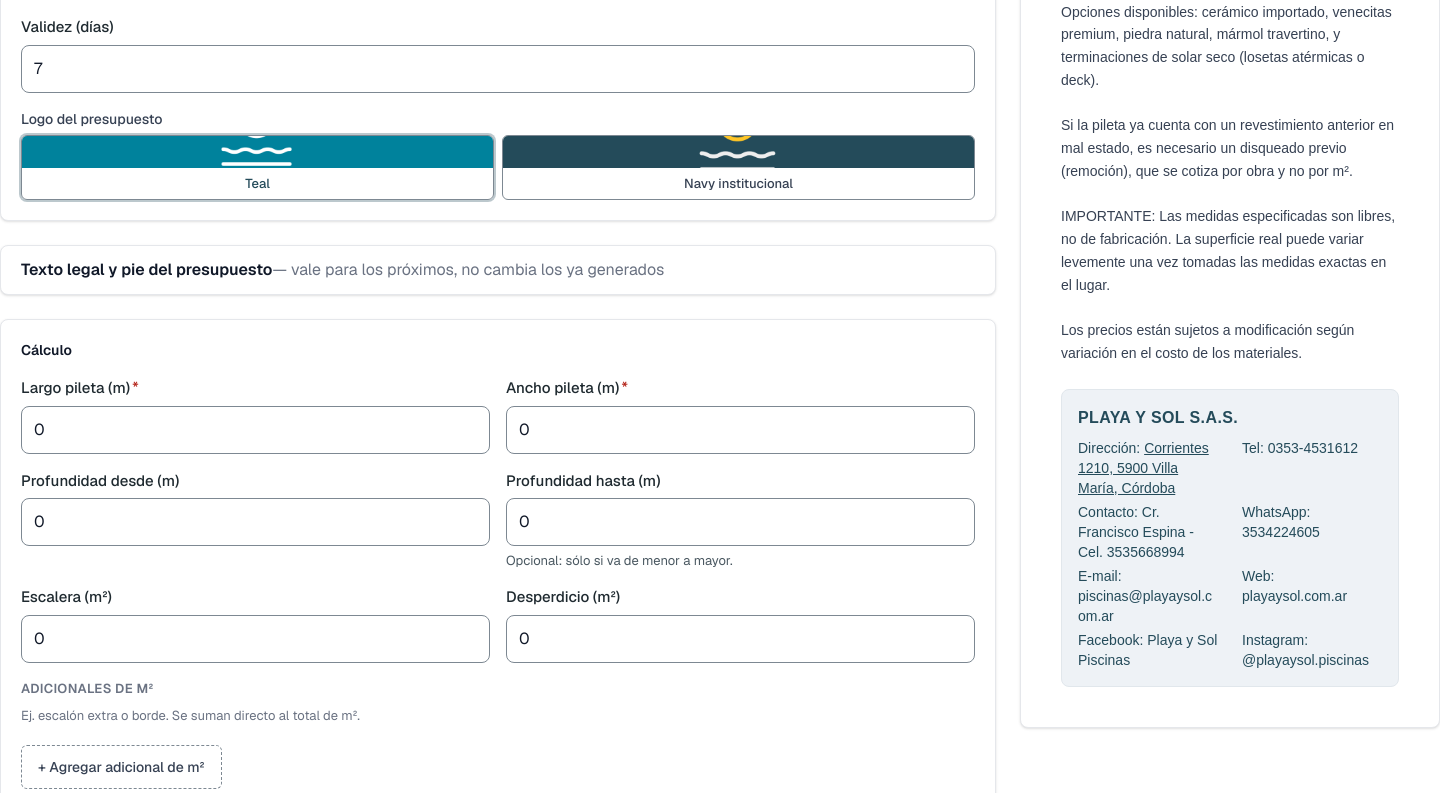
RevestimientoCalculadora · paridad con el oráculo › profundidad de menor a mayor usa el promedio (68 m² con prof pareja, 63,2 con 1→1,6)
(page scrolled)
Type "8" into the field labelled "Largo pileta (m)" at x=256, y=430, box [21, 406, 490, 454]
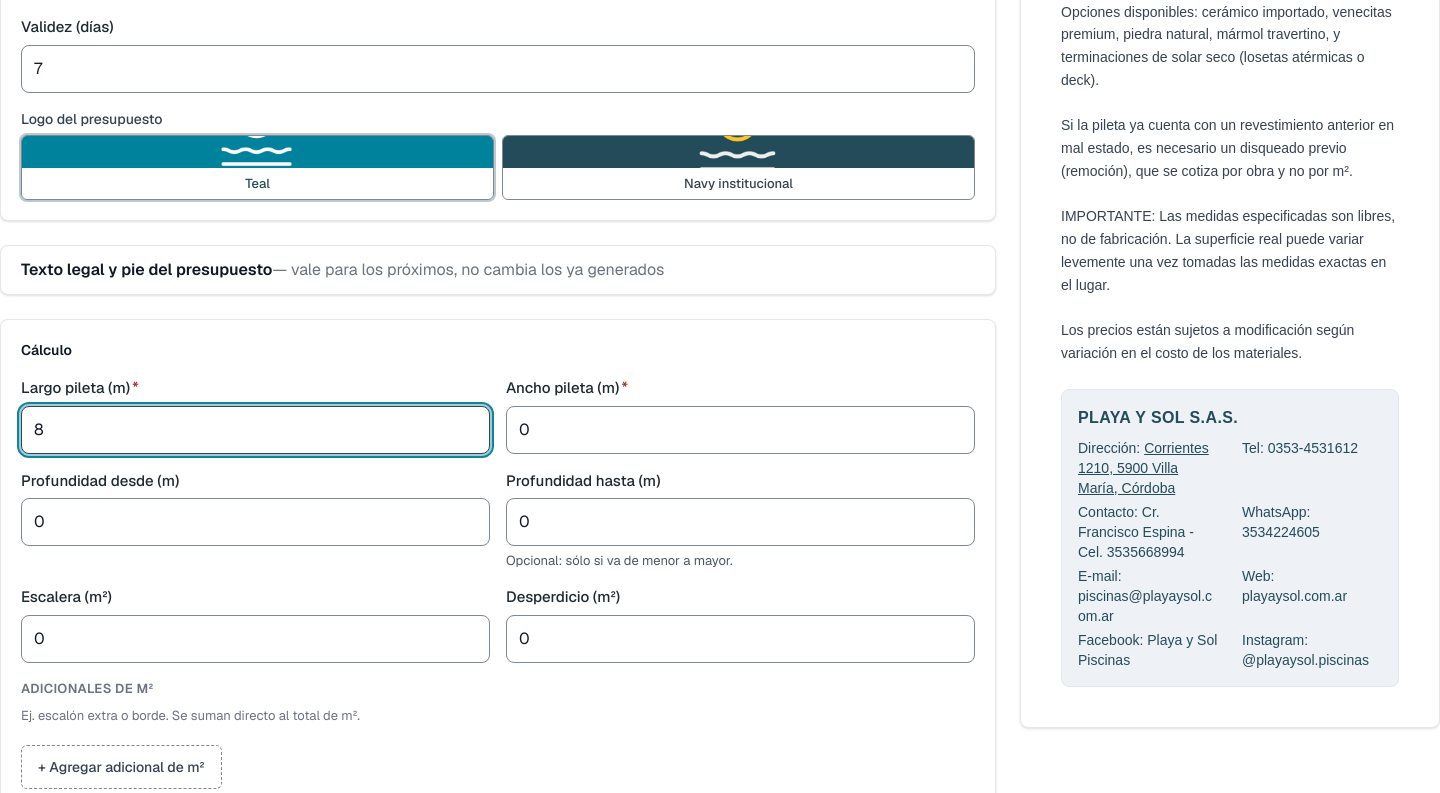
Type "4" into the field labelled "Ancho pileta (m)" at x=740, y=430, box [506, 406, 975, 454]
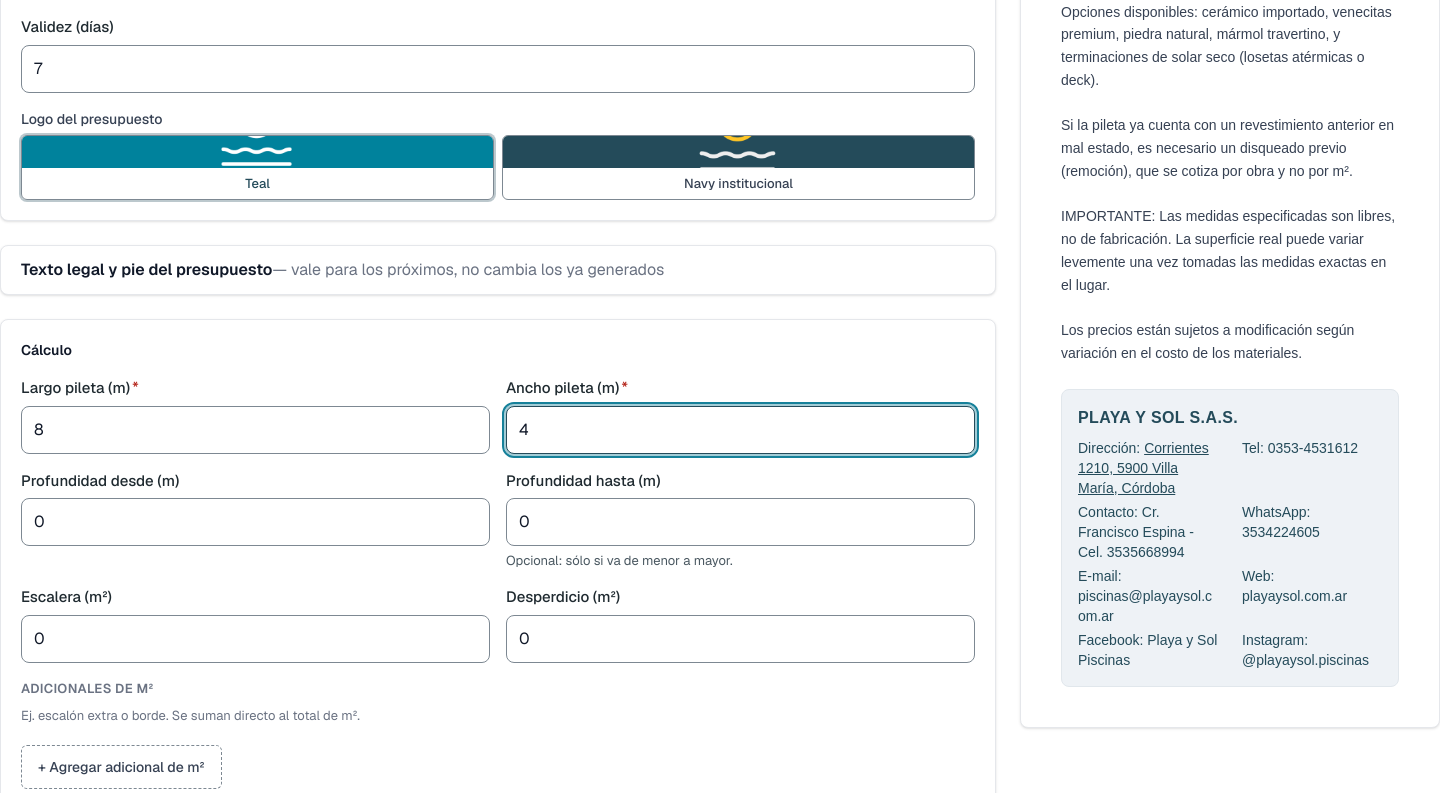
Type "1" into the field labelled "Profundidad desde (m)" at x=256, y=522, box [21, 498, 490, 546]
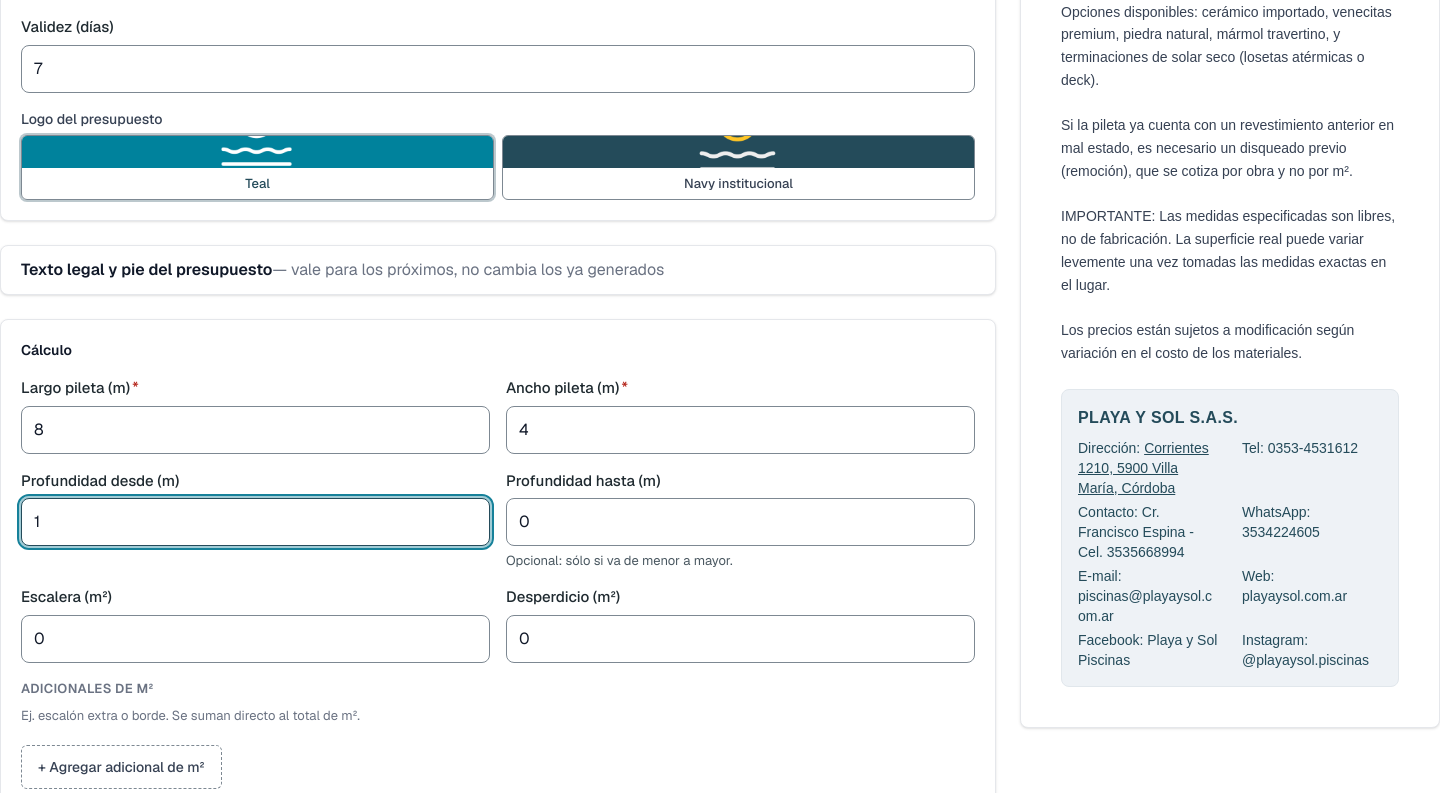
Type "1.6" into the field labelled "Profundidad hasta (m)" at x=740, y=522, box [506, 498, 975, 546]
(page scrolled)
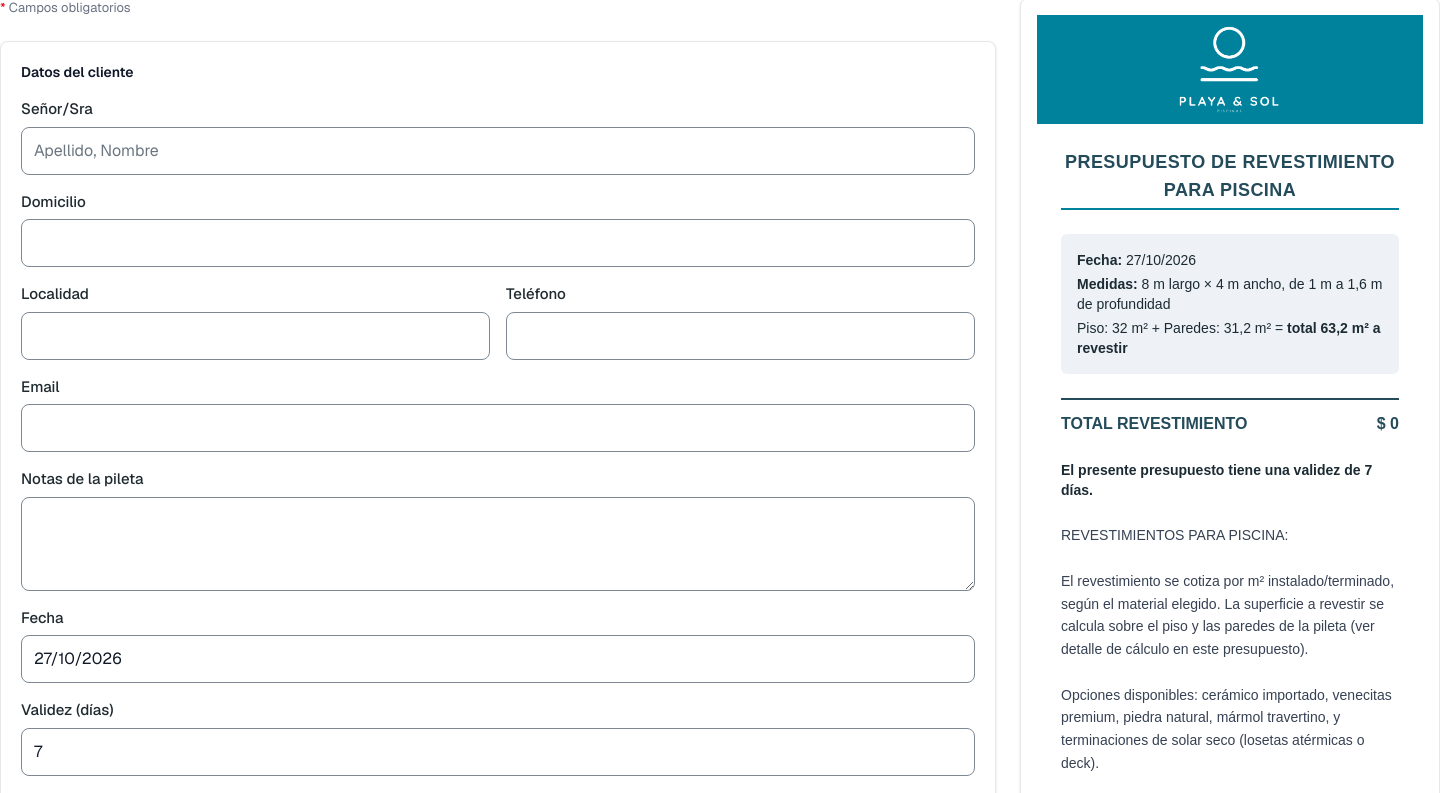
Expected: the text "total 63,2 m² a revestir" is shown, [1077, 320, 1380, 356]
